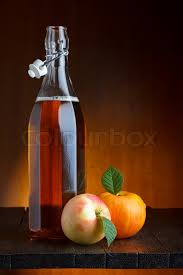apple: (55, 196, 116, 246), (95, 191, 147, 236)
